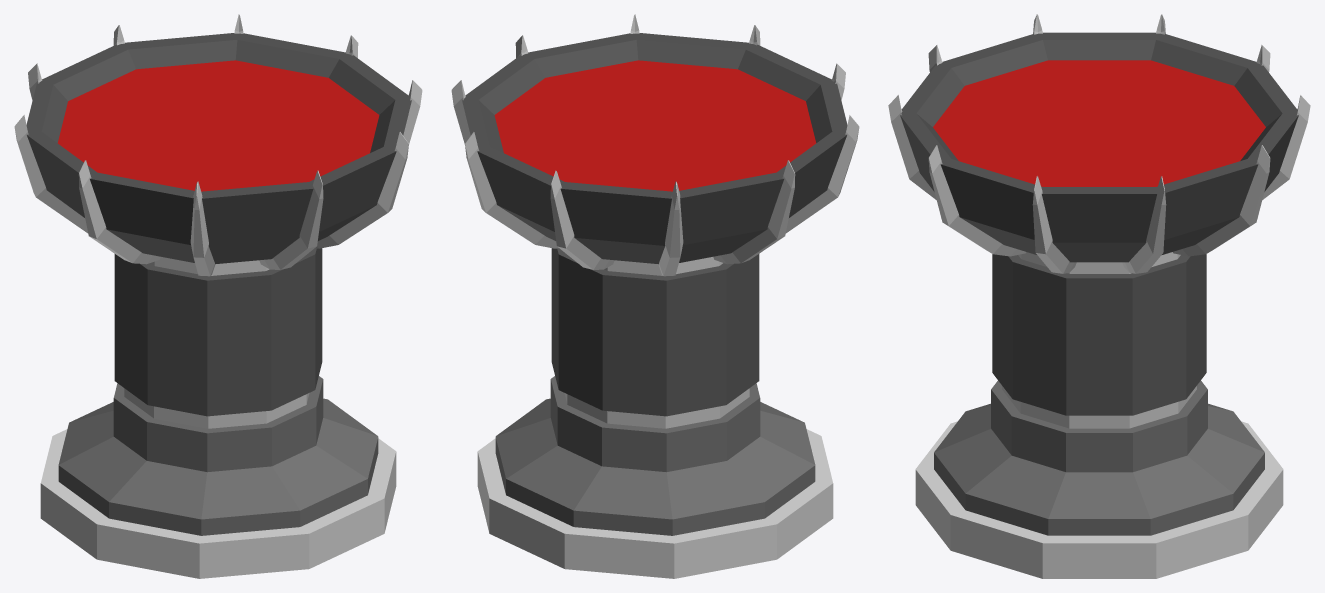
The model's file is GGJ2016_Senseless_Shrine_Seberated_Plane.fbx.
The picture shows the model from 3 angles, left to right: view 1: azimuth 30°, elevation 25°; view 2: azimuth 150°, elevation 25°; view 3: azimuth 270°, elevation 25°; orthographic projection.
Parts seen in each view (by area): view 1: Shrine, Shrine_Liquid; view 2: Shrine, Shrine_Liquid; view 3: Shrine, Shrine_Liquid.
Part boxes in pixels (box(x1,y1,x2,y2)): Shrine: box(14, 14, 422, 578); Shrine_Liquid: box(57, 60, 379, 191); Shrine: box(451, 14, 859, 578); Shrine_Liquid: box(494, 60, 816, 191); Shrine: box(888, 14, 1310, 578); Shrine_Liquid: box(933, 60, 1265, 186).
Size of the model in its own units: 218 by 246 by 229.
